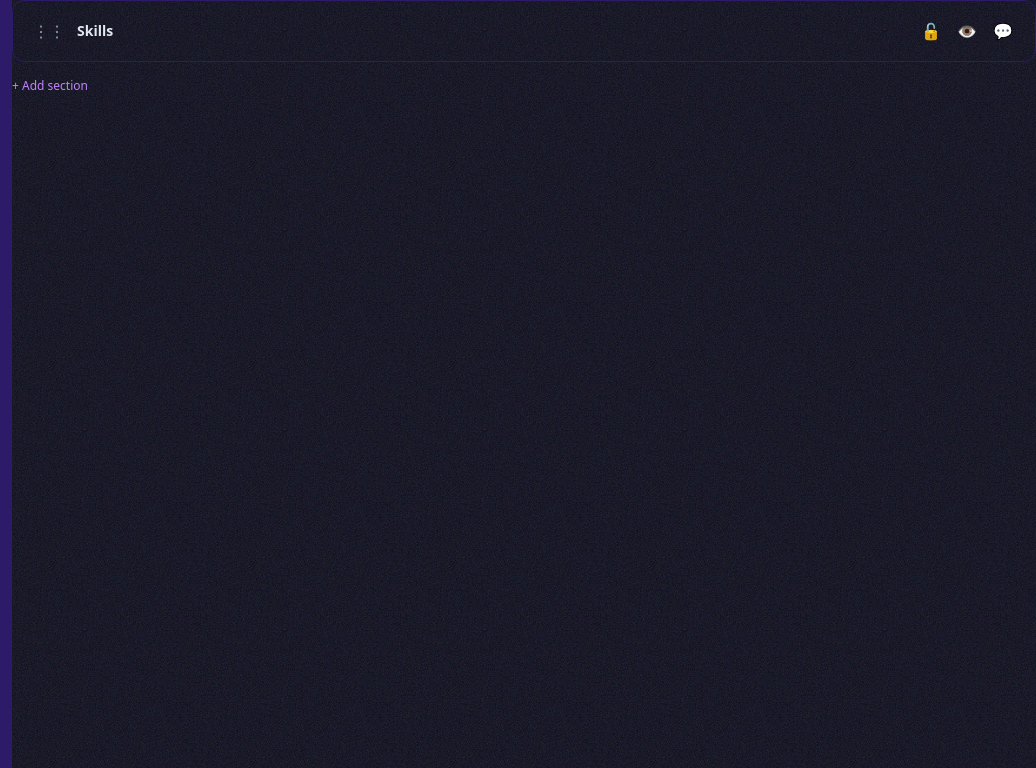
Scenario: ProfileTreeEditor › an edit sets dirty; Save PUTs the tree and clears dirty
Expected: the text "Save" is not shown
Step 1. Click the text "Skills" → (95, 31), box [77,21,113,41]
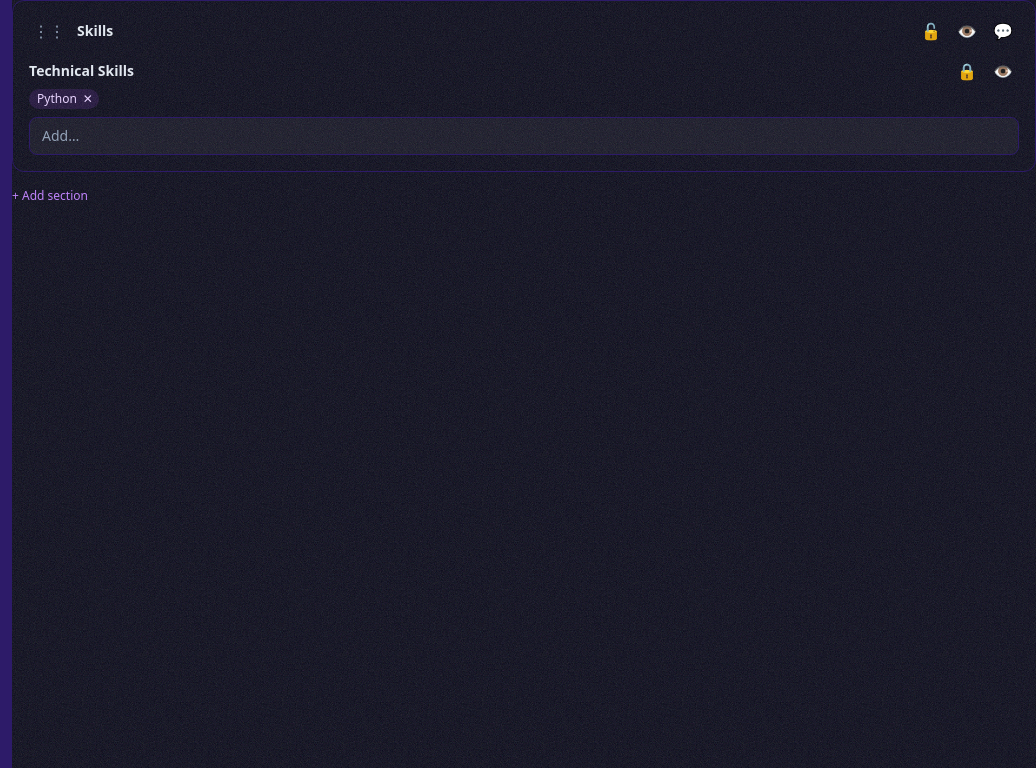
Step 2. Click the button named "Remove Python" → (88, 99), box [81,91,95,107]
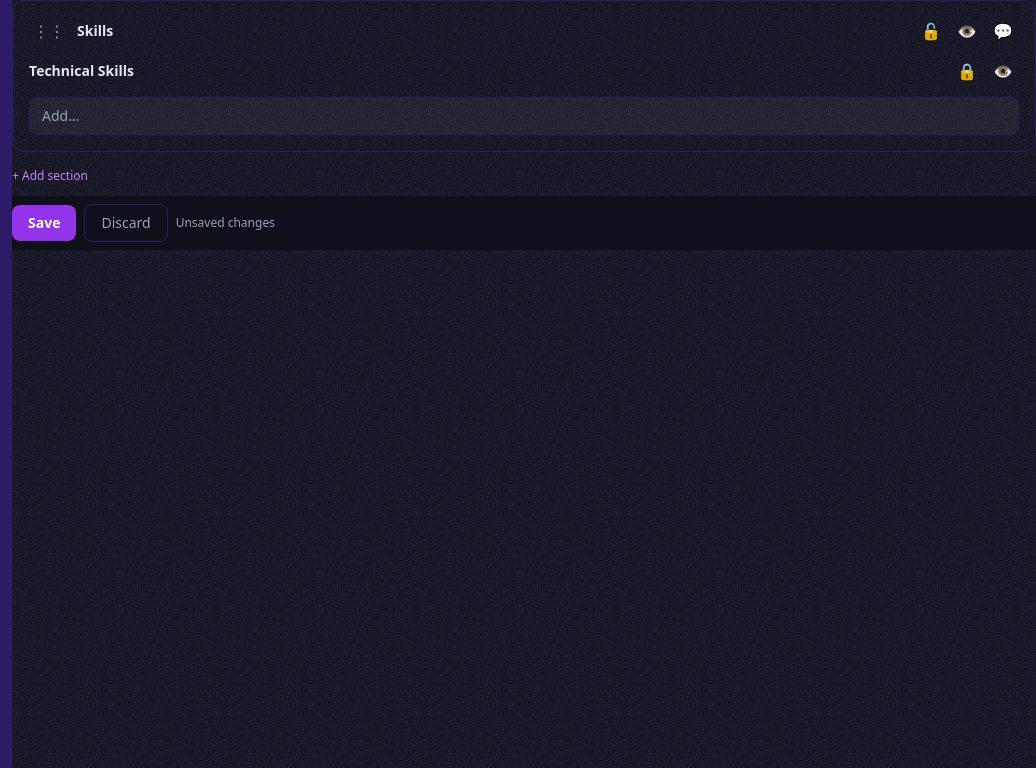
Expected: the button "Save" is enabled
Step 3. Click the button "Save" → (44, 223), box [12,205,76,241]
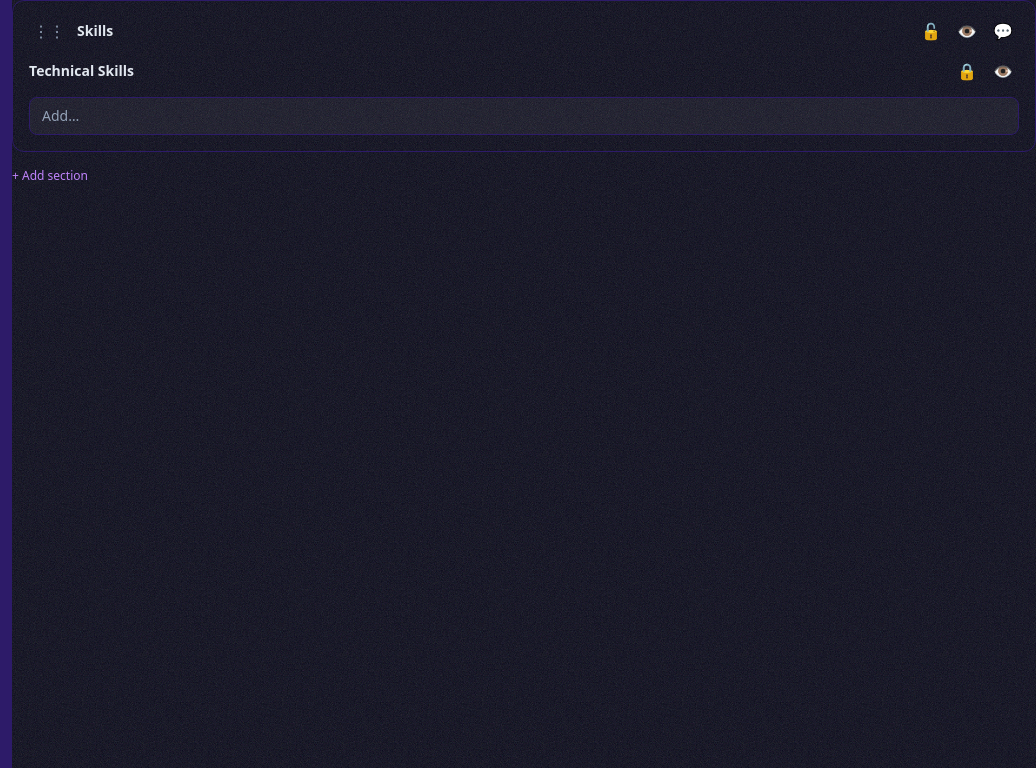
Expected: the button "Save" is gone
